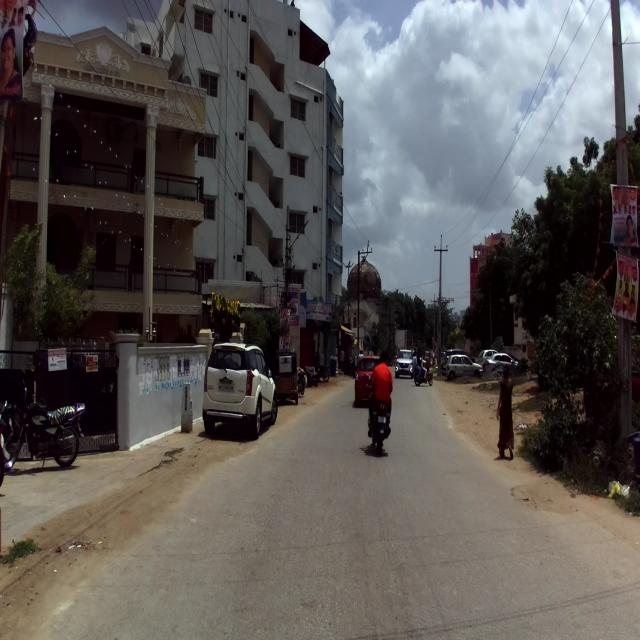car: (202, 341, 278, 439)
motorcycle: (0, 372, 86, 472), (365, 372, 391, 456)
